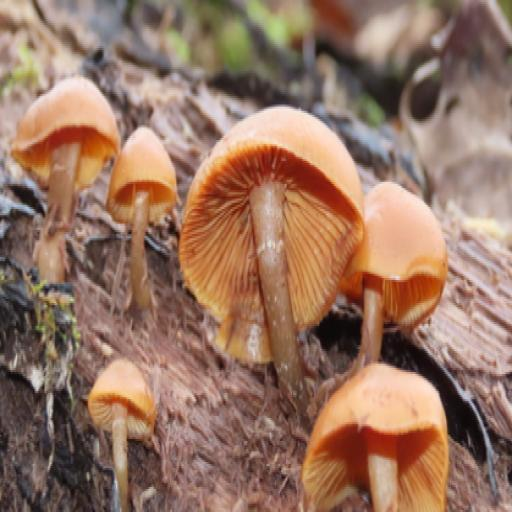mushroom: (183, 100, 361, 378), (304, 357, 457, 512), (12, 59, 119, 264), (354, 165, 452, 358), (108, 121, 179, 300), (90, 349, 160, 504)
